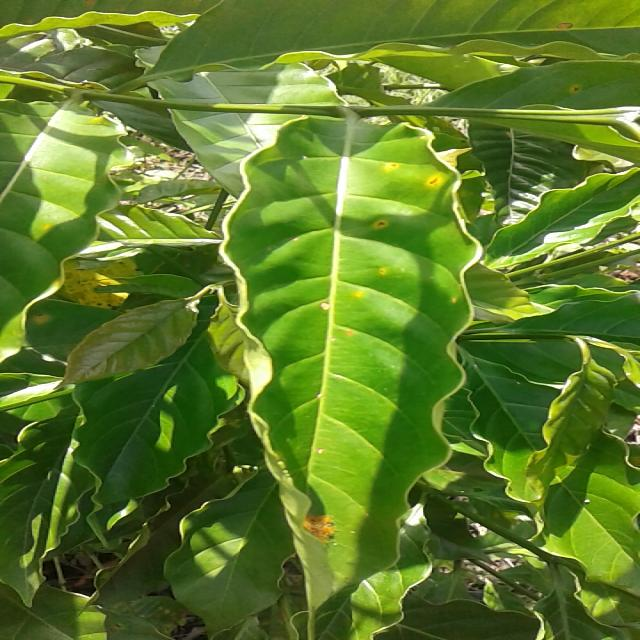Enfermedad-Roya: (225, 118, 483, 613)
